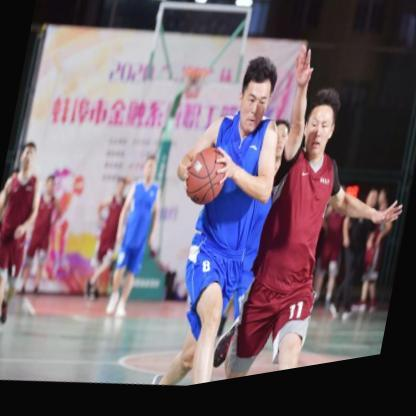basketball: (184, 150, 223, 216)
